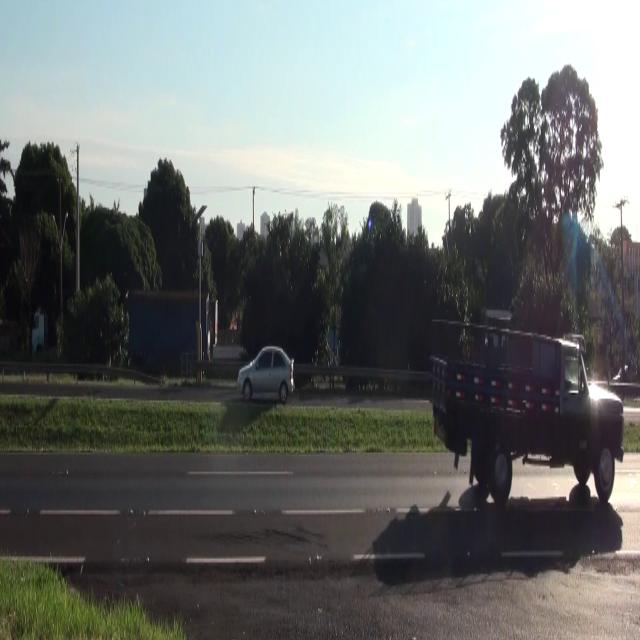-axle: (592, 440, 618, 510), (486, 440, 515, 502)
